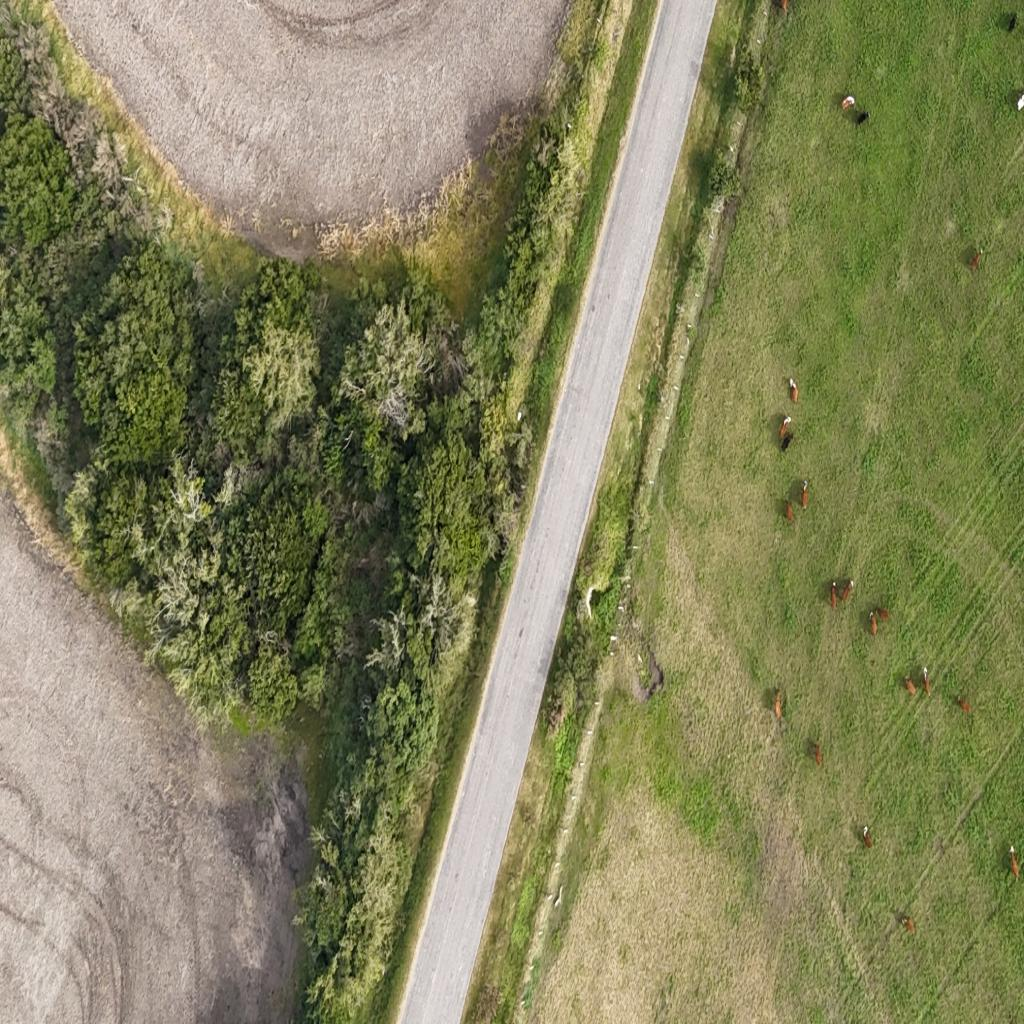cow: (1008, 844, 1020, 881), (772, 688, 783, 726), (1010, 83, 1024, 112), (842, 95, 857, 118), (780, 416, 792, 444), (800, 478, 809, 510), (905, 673, 917, 697), (785, 496, 795, 524), (901, 915, 915, 934), (875, 605, 889, 624), (959, 694, 971, 715), (862, 825, 872, 850), (844, 580, 854, 604), (1008, 14, 1018, 37), (856, 111, 870, 127), (922, 668, 930, 696), (973, 248, 983, 270), (870, 612, 878, 638), (790, 380, 798, 405), (831, 584, 838, 610), (815, 742, 822, 767)
